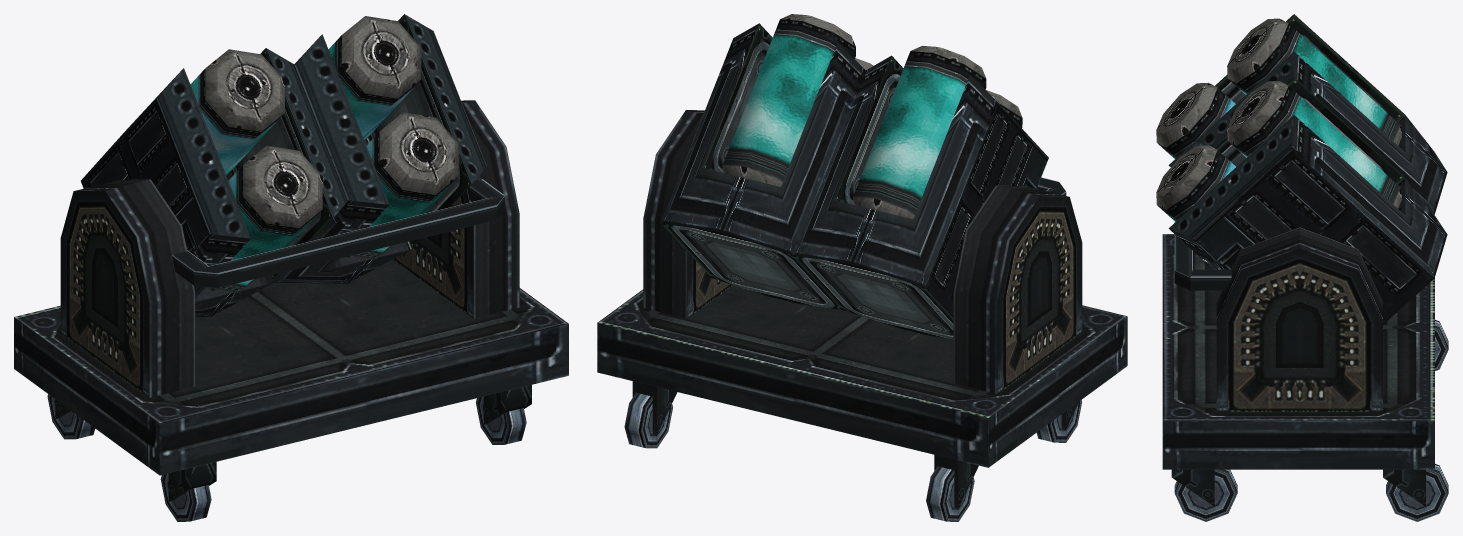
File: Battery_large_01.FBX
3 views of the same model, side by side, from view 1: azimuth 30°, elevation 25°; view 2: azimuth 150°, elevation 25°; view 3: azimuth 270°, elevation 25° (orthographic). The views are drawn at different scales.
Parts seen in each view (by area): view 1: Battery_large_01_cart, Battery_large_01_body; view 2: Battery_large_01_cart, Battery_large_01_body; view 3: Battery_large_01_cart, Battery_large_01_body.
Part boxes in pixels (x1,y1,x2,y2): Battery_large_01_cart: [14, 100, 568, 521]; Battery_large_01_body: [81, 14, 504, 316]; Battery_large_01_cart: [597, 110, 1127, 521]; Battery_large_01_body: [661, 14, 1066, 339]; Battery_large_01_cart: [1162, 227, 1448, 521]; Battery_large_01_body: [1156, 14, 1447, 324].
Size of the model in its own units: 335 by 327 by 222.
